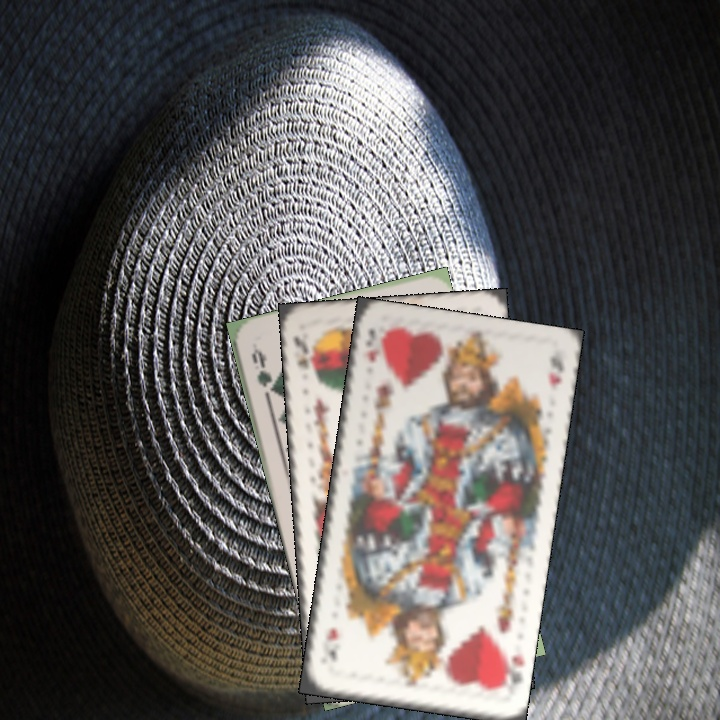G9: (247, 341, 279, 400)
HK: (494, 645, 526, 692), (362, 324, 383, 365)
SK: (289, 332, 317, 380)
